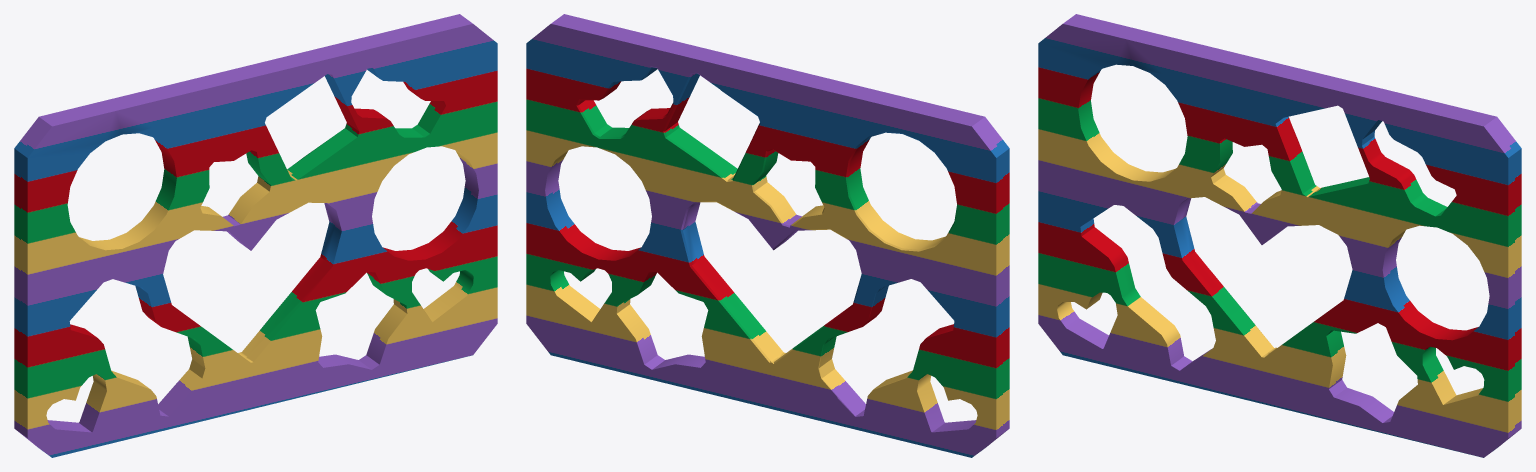
Rendered from O_HoleWall.fbx.
The picture shows the model from 3 angles, left to right: view 1: azimuth 30°, elevation 25°; view 2: azimuth 150°, elevation 25°; view 3: azimuth 330°, elevation 25°; orthographic projection.
Visible parts, largest first — view 1: pCube15; view 2: pCube15; view 3: pCube15.
Part boxes in pixels (x1,y1,x2,y2): pCube15: (14, 14, 497, 457); pCube15: (526, 14, 1009, 457); pCube15: (1038, 14, 1521, 457).
Size of the model in its own units: 2708 by 1825 by 133.
